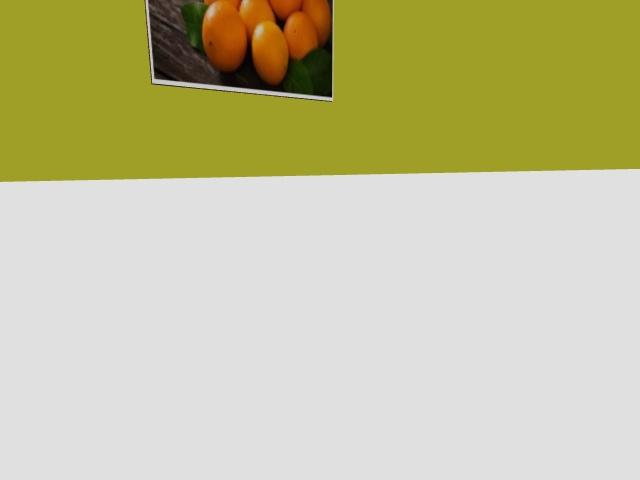orange: (202, 1, 246, 71), (252, 21, 288, 85), (284, 11, 317, 59), (239, 0, 274, 40), (301, 0, 331, 46), (269, 0, 300, 20), (204, 0, 240, 9)
